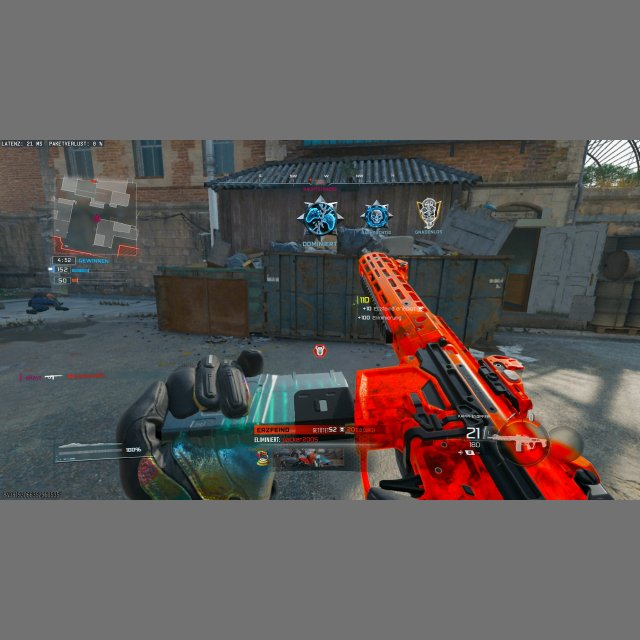head: (316, 195, 326, 204)
player: (303, 195, 336, 242)
